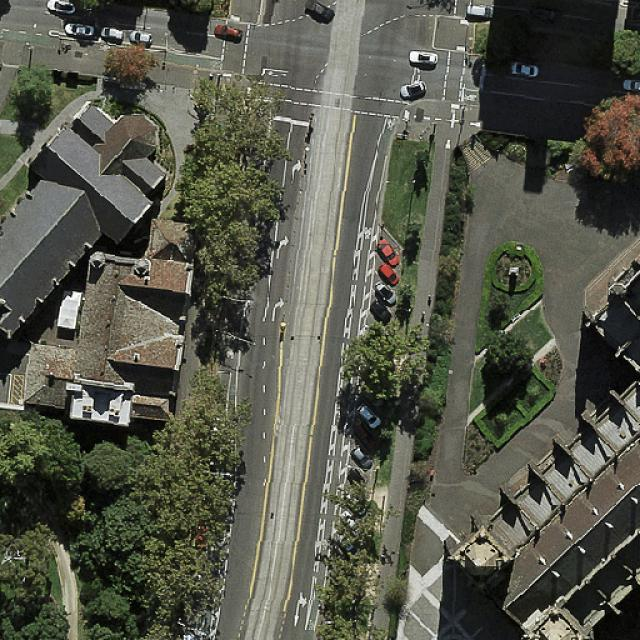Bike-Symbols: (58, 38, 73, 52), (464, 90, 479, 103), (209, 58, 222, 72), (386, 116, 396, 133), (99, 43, 113, 55), (364, 225, 374, 241), (225, 347, 236, 360), (320, 539, 330, 552), (308, 618, 315, 632)
